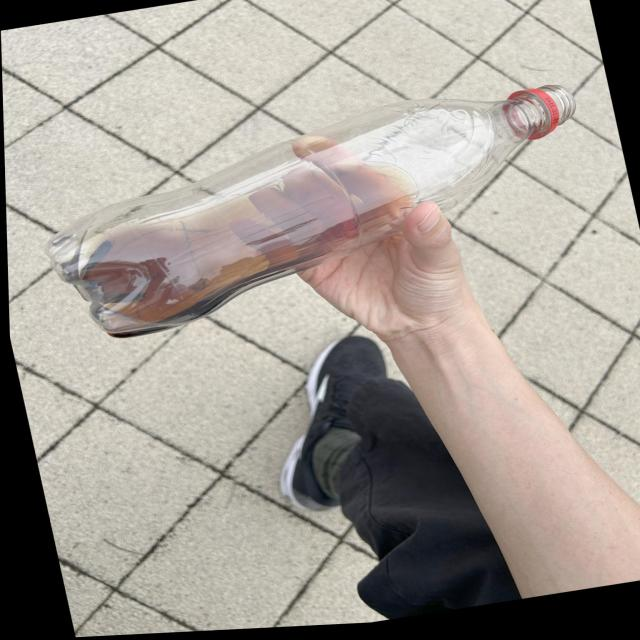low: (47, 85, 575, 338)
